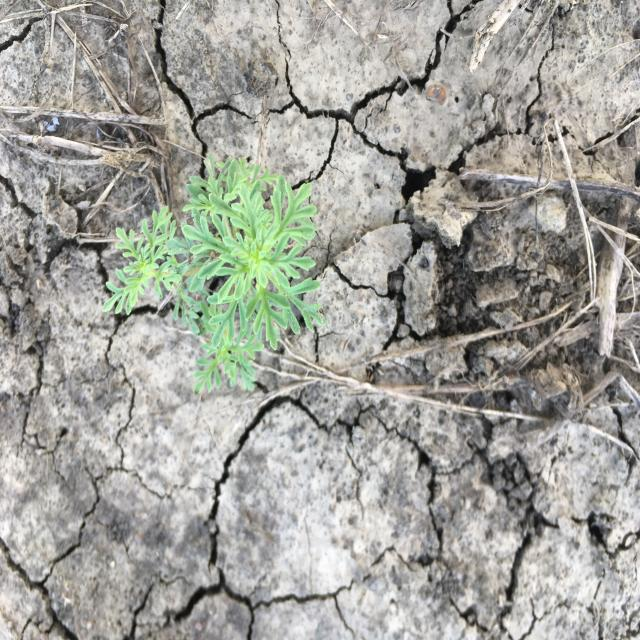Ragweed: (100, 152, 328, 397)
